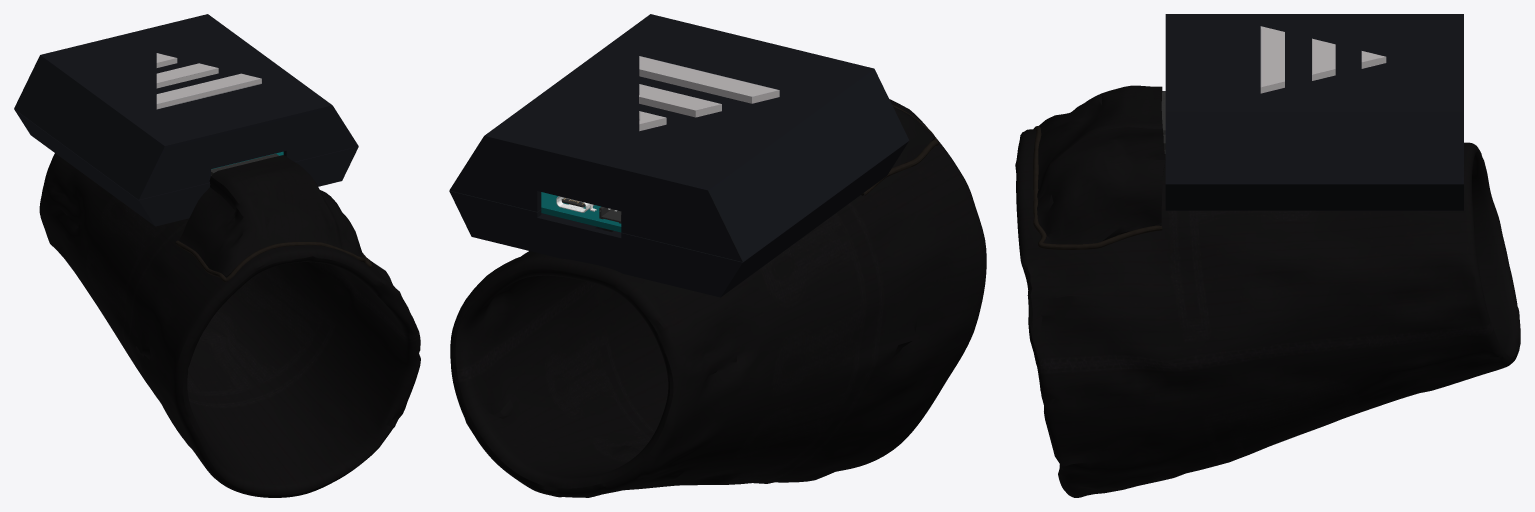
Rendered from scene_without_arm_darker_sleeve.gltf.
3 views of the same model, side by side, from view 1: azimuth 30°, elevation 25°; view 2: azimuth 150°, elevation 25°; view 3: azimuth 270°, elevation 25° (orthographic). The views are drawn at different scales.
Visible parts, largest first — view 1: Tisue, top_plate, bottom_plate; view 2: Tisue, top_plate, bottom_plate, Assembly_PCB_EIT_Eval_Kit_1.0_with_Teensy, Assembly_medium_parts; view 3: Tisue, top_plate, bottom_plate.
Boxes of the visible parts, x1=… form: Tisue: x1=39, y1=153, x2=420, y2=497; top_plate: x1=14, y1=14, x2=358, y2=199; bottom_plate: x1=14, y1=109, x2=358, y2=226; Tisue: x1=450, y1=99, x2=986, y2=497; top_plate: x1=449, y1=14, x2=908, y2=261; bottom_plate: x1=449, y1=141, x2=908, y2=297; Assembly_PCB_EIT_Eval_Kit_1.0_with_Teensy: x1=541, y1=192, x2=621, y2=232; Assembly_medium_parts: x1=556, y1=196, x2=621, y2=223; Tisue: x1=1015, y1=85, x2=1520, y2=497; top_plate: x1=1165, y1=14, x2=1463, y2=183; bottom_plate: x1=1165, y1=183, x2=1463, y2=210.
Bounding box in the file's own units: 0.0972 × 0.1342 × 0.1457.
9 materials, 8 textured.
